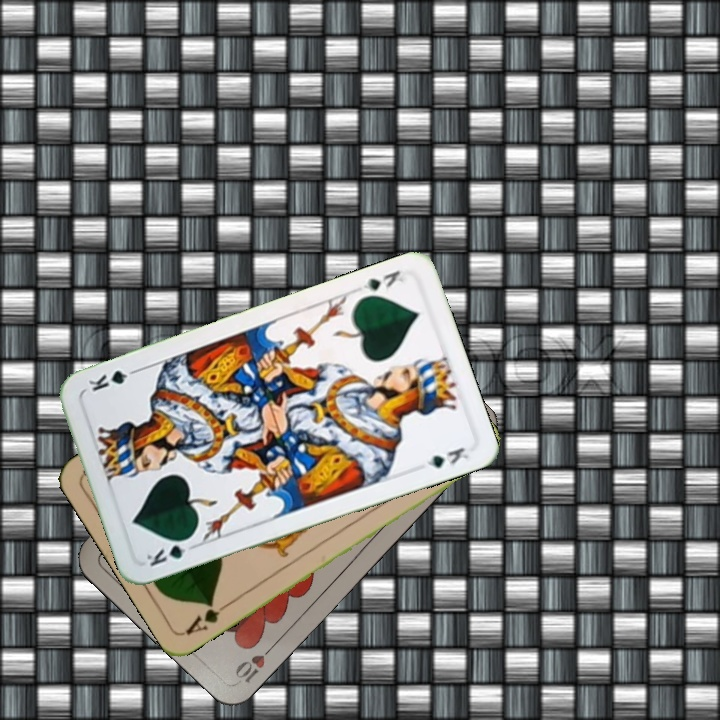GA: (181, 598, 234, 638)
GK: (142, 533, 199, 569), (356, 266, 407, 302)
H10: (231, 638, 279, 686)
